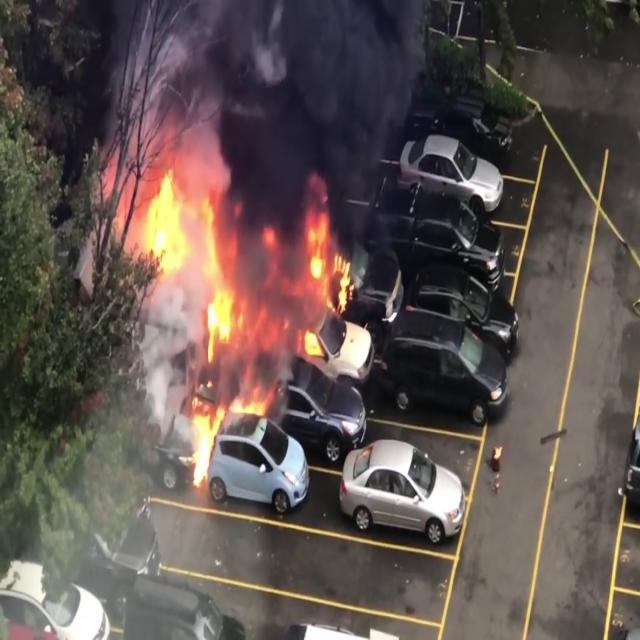Fire: (132, 154, 267, 348), (293, 204, 363, 365), (187, 399, 224, 488)
Smoke: (185, 0, 401, 250)
